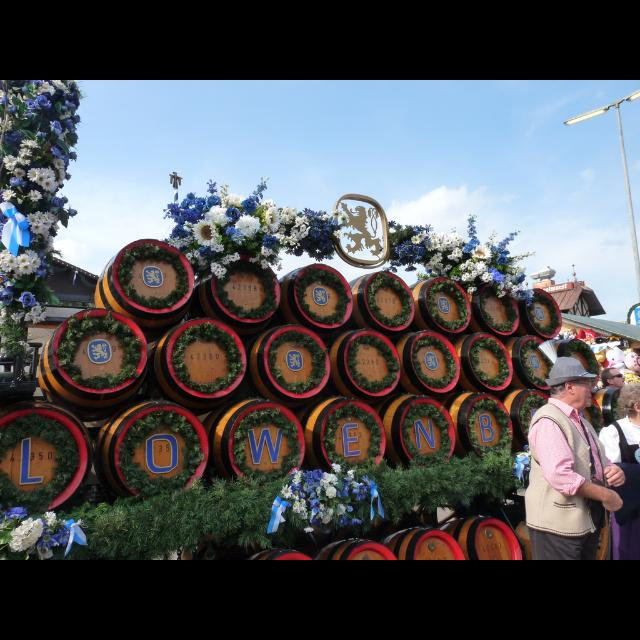Flower: (162, 172, 350, 280), (0, 80, 81, 278), (384, 214, 538, 308), (280, 462, 380, 528), (0, 504, 86, 560), (510, 449, 536, 475), (193, 222, 217, 246), (556, 324, 590, 338), (16, 294, 38, 308), (0, 290, 14, 308), (10, 310, 22, 324), (301, 524, 315, 536), (36, 312, 46, 326), (32, 302, 40, 314), (20, 339, 30, 348), (25, 312, 33, 322)
